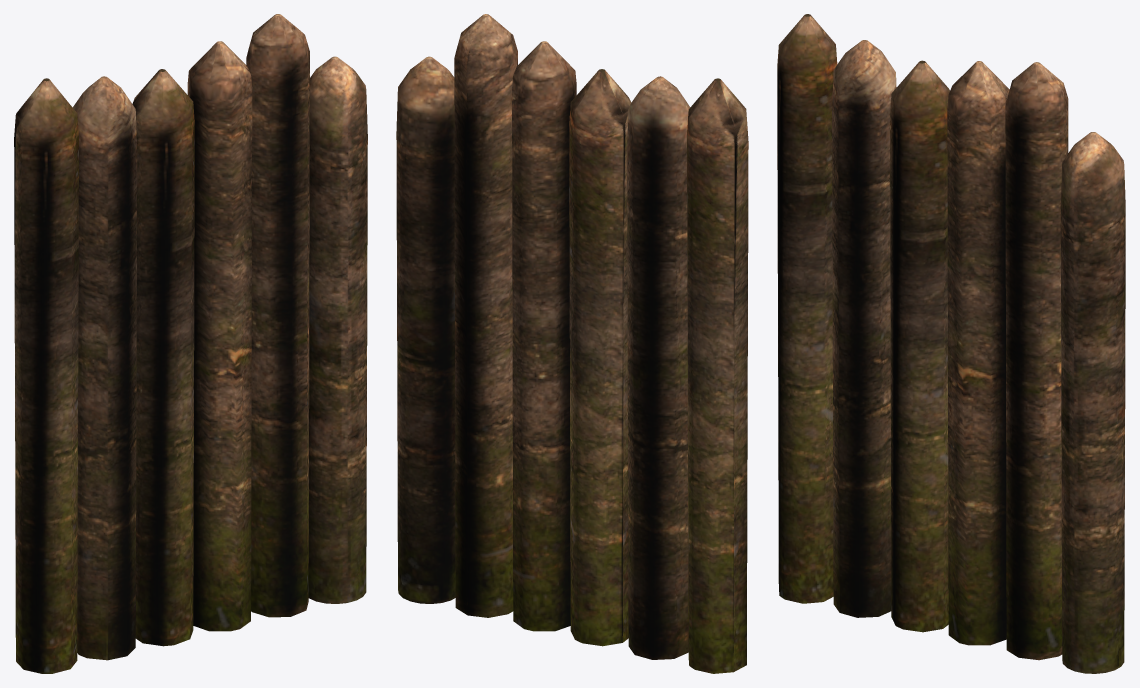
The model's file is Palisade v2.FBX.
The picture shows the model from 3 angles, left to right: view 1: azimuth 30°, elevation 25°; view 2: azimuth 150°, elevation 25°; view 3: azimuth 330°, elevation 25°; orthographic projection.
Parts seen in each view (by area): view 1: Palisade; view 2: Palisade; view 3: Palisade.
Part boxes in pixels (bbox=[...]): Palisade: bbox=[14, 14, 367, 673]; Palisade: bbox=[396, 14, 748, 673]; Palisade: bbox=[777, 14, 1125, 673].
Size of the model in its own units: 84.38 by 138 by 13.95.
